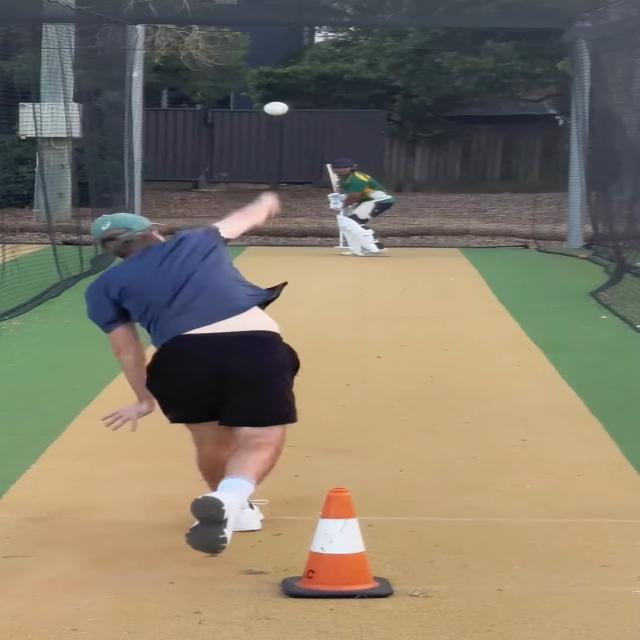Cricket ball: (258, 98, 296, 119)
